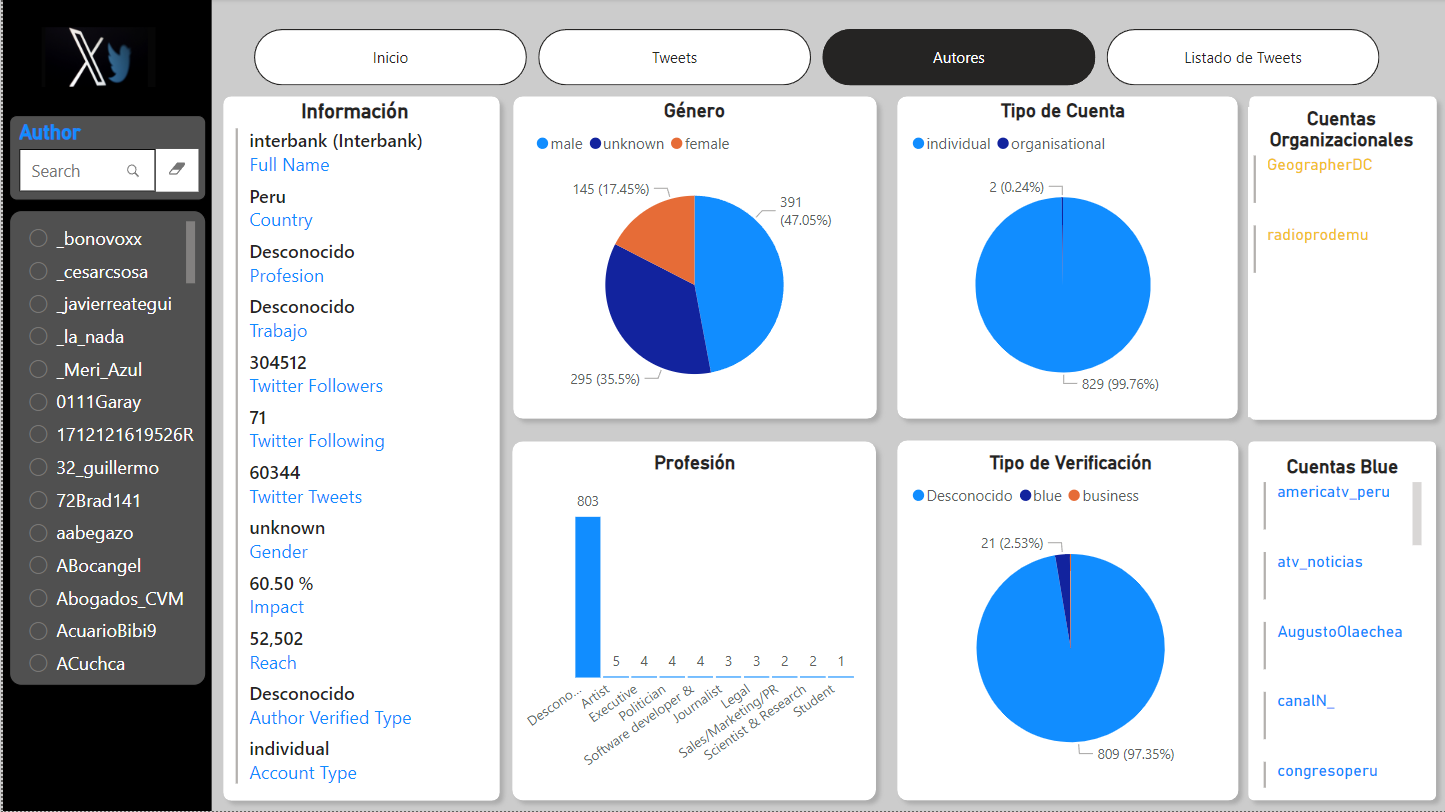

The dashboard page shown, as its layout file describes it:
{"tool":"powerbi","page":{"name":"Autores","canvas":[1280,720],"ordinal":2},"visuals":[{"type":"textbox","title":"Informe 1","box":[0,0,185.4,719.6],"z":0},{"type":"image","box":[29.2,0,110.9,102.8],"z":1000},{"type":"pageNavigator","box":[222.7,26.2,999.8,50.4],"z":2000},{"type":"slicer","fields":{"Values":["AUTOR.Author"]},"box":[5,186.7,174.8,422],"z":3000},{"type":"shape","box":[186.2,77.1,263.3,642.9],"z":4000},{"type":"shape","box":[443.3,77.1,340.5,304.1],"z":5000},{"type":"shape","box":[783.8,77.1,320.1,304.1],"z":6000},{"type":"multiRowCard","title":"Información","fields":{"Values":["AUTOR.Full Name","AUTOR.Country","AUTOR.Profesion","AUTOR.Trabajo","AUTOR.Twitter Followers","AUTOR.Twitter Following","AUTOR.Twitter Tweets","AUTOR.Gender","MEDIDAS.Impact","MEDIDAS.Reach","AUTOR.Author Verified Type","AUTOR.Account Type"]},"box":[201.6,88.4,221.4,631.6],"z":7000},{"type":"pieChart","title":"Género","fields":{"Category":["AUTOR.Gender"],"Y":["MEDIDAS.Conteo_por_genero"]},"box":[467.3,88.7,291.7,282],"z":8000},{"type":"shape","box":[1096,77.1,184.4,305],"z":9000},{"type":"pieChart","title":"Tipo de Cuenta","fields":{"Category":["AUTOR.Account Type"],"Y":["MEDIDAS.conteo_tipo_cuenta"]},"box":[800.7,88.7,278.4,282],"z":10000},{"type":"multiRowCard","title":"Cuentas Organizacionales","fields":{"Values":["MEDIDAS.conteo_cuentas_organizacionales","AUTOR.Author"]},"box":[1103.9,95.8,165.8,274.9],"z":11000},{"type":"shape","box":[442.9,383.3,340.6,336.6],"z":12000},{"type":"shape","box":[783.5,382.3,320.7,337.6],"z":13000},{"type":"clusteredColumnChart","title":"Profesión","fields":{"Y":["MEDIDAS.Conteo_por_genero"],"Category":["PROFESION.Profesion"]},"box":[457.8,401.2,311.8,301.9],"z":14000},{"type":"pieChart","title":"Tipo de Verificación","fields":{"Y":["MEDIDAS.Conteo_por_genero"],"Category":["AUTOR.Author Verified Type"]},"box":[800.4,401.2,291.9,301.9],"z":15000},{"type":"textFilter25A4896A83E0487089E2B90C9AE57C8A","fields":{"field":["AUTOR.Author"]},"box":[5,103.3,174.8,76.5],"z":16000},{"type":"shape","box":[1095.3,383.3,184.7,336.6],"z":17000},{"type":"multiRowCard","title":"Cuentas Blue","fields":{"Values":["MEDIDAS.cuentas_blue","AUTOR.Author"]},"box":[1112.8,404.3,149.9,299.7],"z":18000}]}

Visuals, with their boxes in screenshot pixels (x1, y1, x2, y2):
"Informe 1" textbox: crop(0, 0, 206, 797)
image: crop(33, 0, 156, 111)
pageNavigator: crop(248, 25, 1361, 82)
slicer - AUTOR.Author: crop(6, 204, 200, 674)
shape: crop(207, 82, 500, 798)
shape: crop(494, 82, 873, 421)
shape: crop(873, 82, 1229, 421)
"Información" multiRowCard: crop(224, 95, 471, 798)
"Género" pieChart: crop(520, 95, 845, 409)
shape: crop(1220, 82, 1425, 422)
"Tipo de Cuenta" pieChart: crop(891, 95, 1201, 409)
"Cuentas Organizacionales" multiRowCard: crop(1229, 103, 1414, 409)
shape: crop(493, 423, 872, 798)
shape: crop(872, 422, 1229, 798)
"Profesión" clusteredColumnChart: crop(510, 443, 857, 779)
"Tipo de Verificación" pieChart: crop(891, 443, 1216, 779)
textFilter25A4896A83E0487089E2B90C9AE57C8A - AUTOR.Author: crop(6, 111, 200, 196)
shape: crop(1219, 423, 1425, 798)
"Cuentas Blue" multiRowCard: crop(1239, 446, 1406, 780)
